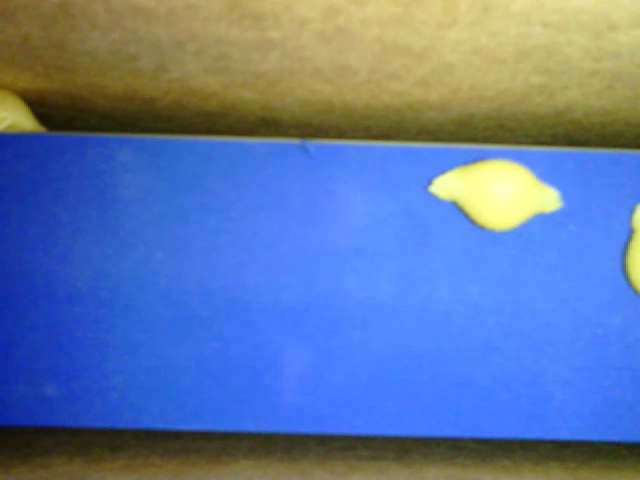shell: (427, 157, 569, 236), (5, 91, 49, 134)
